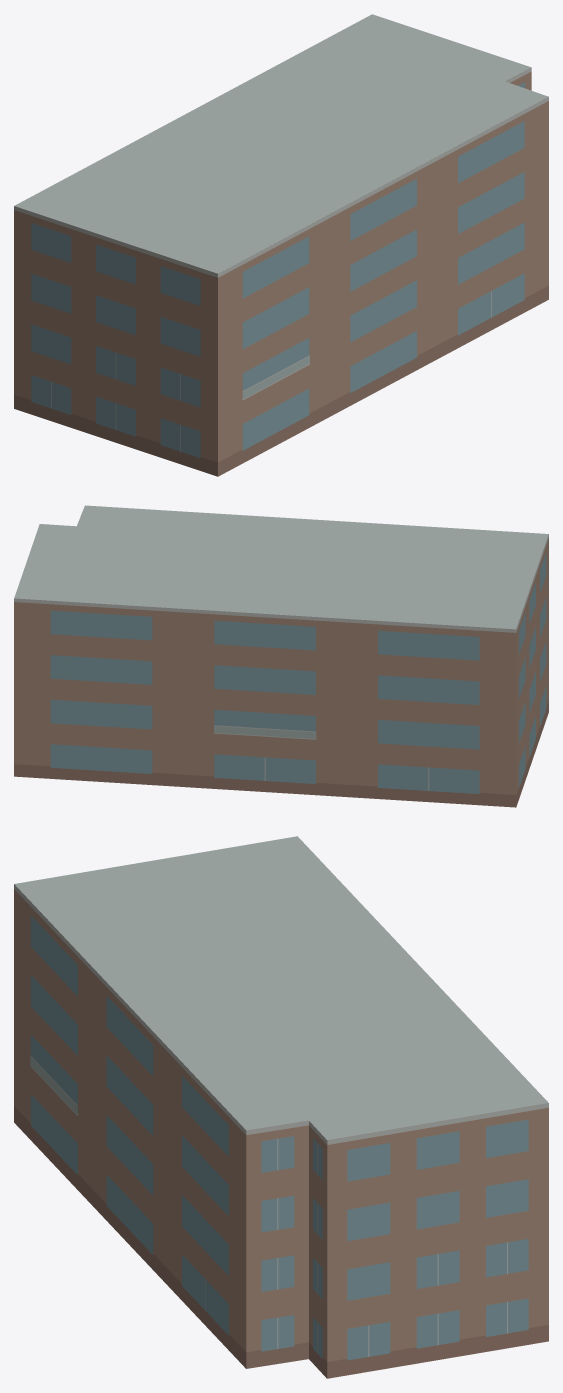
Rendered from survey-upis-32943477.glb.
3 renders of one model, top to bottom at view 1: azimuth 30°, elevation 25°; view 2: azimuth 150°, elevation 25°; view 3: azimuth 270°, elevation 25°, orthographic. The views are drawn at different scales.
Parts seen in each view (by area): view 1: survey-upis-32943477.tmp; view 2: survey-upis-32943477.tmp; view 3: survey-upis-32943477.tmp.
Boxes of the visible parts, x1,y1,x2,y2 form: survey-upis-32943477.tmp: (14, 14, 548, 476); survey-upis-32943477.tmp: (14, 505, 548, 807); survey-upis-32943477.tmp: (14, 836, 548, 1378).
Bounding box in the file's own units: 33.38 × 12.2 × 24.81.
